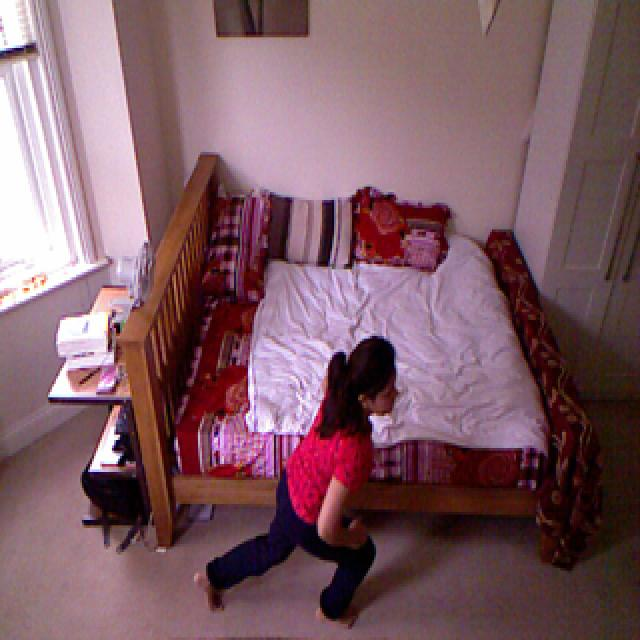bending: (199, 339, 421, 626)
